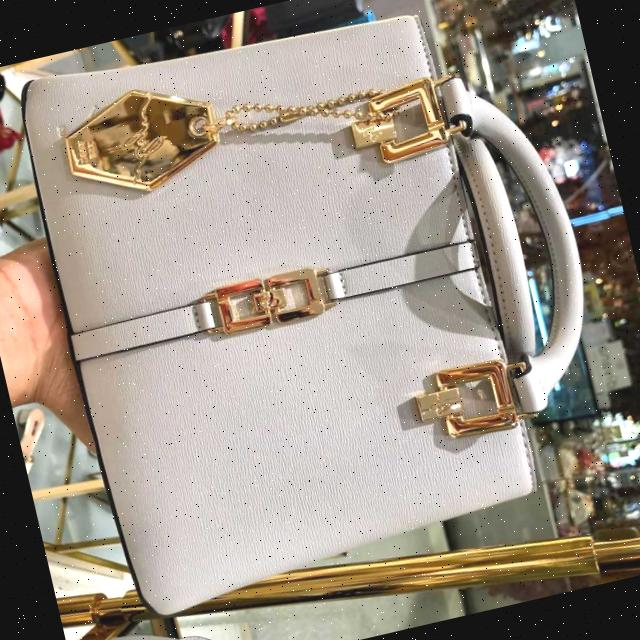Handbag: (12, 0, 640, 624)
